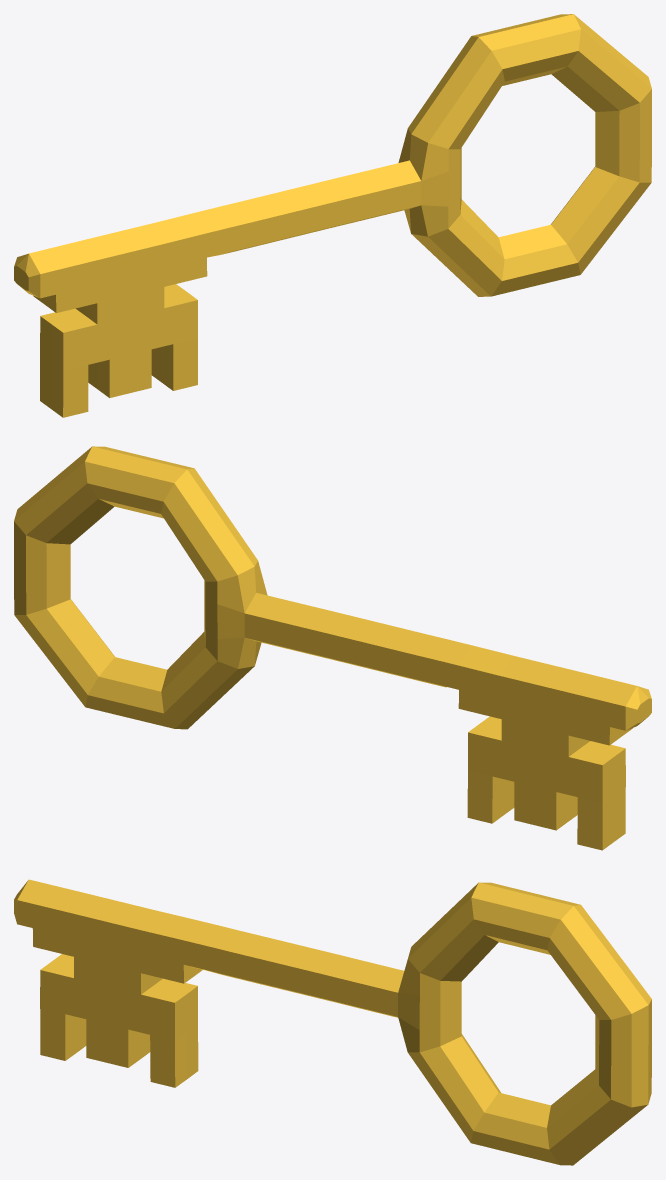
The model's file is goldkeyV2.fbx.
3 renders of one model, top to bottom at view 1: azimuth 30°, elevation 25°; view 2: azimuth 150°, elevation 25°; view 3: azimuth 330°, elevation 25°, orthographic.
Visible parts, largest first — view 1: Torus.005; view 2: Torus.005; view 3: Torus.005.
Boxes of the visible parts, bbox=[...] form: Torus.005: bbox=[14, 14, 651, 417]; Torus.005: bbox=[14, 446, 651, 850]; Torus.005: bbox=[14, 879, 651, 1165].
Size of the model in its own units: 6.31 by 2.58 by 0.5.
